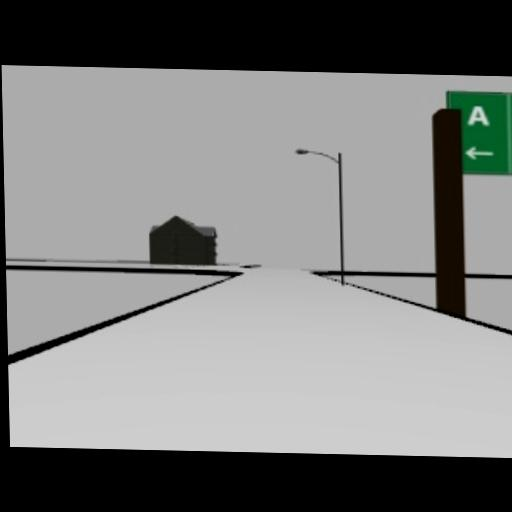A: (466, 103, 489, 126)
Left: (463, 145, 495, 160)
